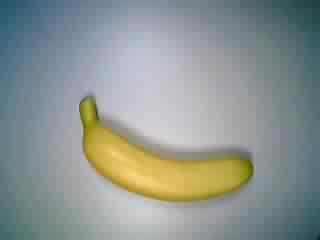banana: (74, 94, 261, 209)
